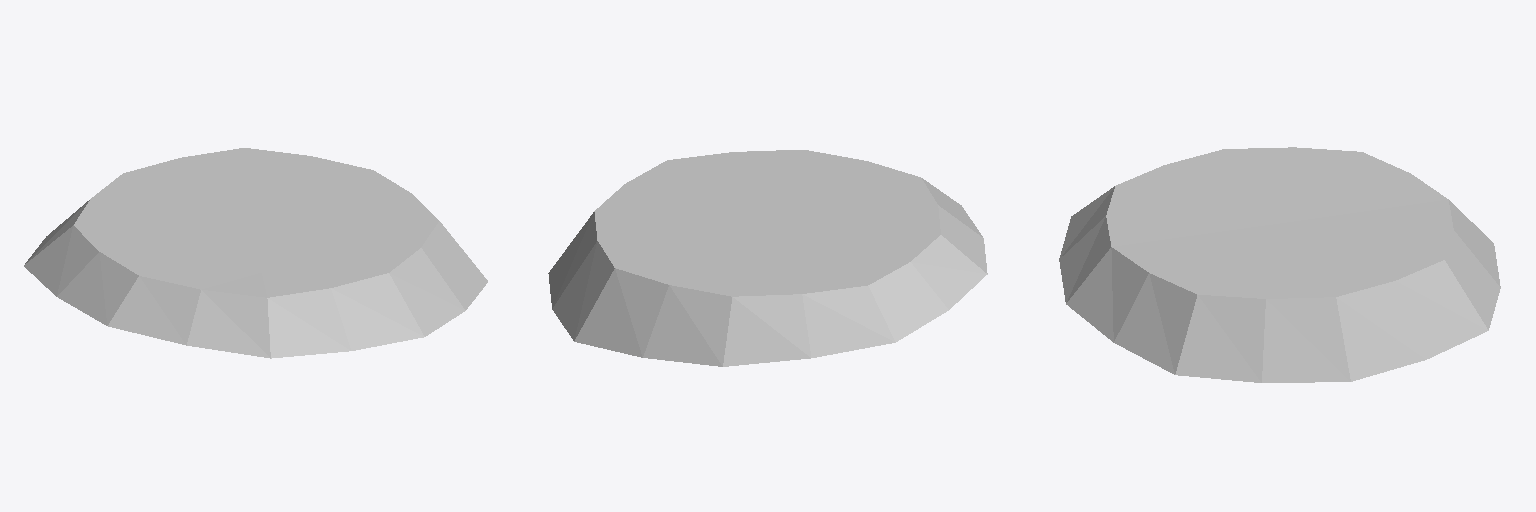
Rendered from slice_04.obj.
3 renders of one model, left to right at view 1: azimuth 30°, elevation 25°; view 2: azimuth 150°, elevation 25°; view 3: azimuth 270°, elevation 25°, orthographic.
Visible parts, largest first — view 1: Mushroom.005_Cube.013; view 2: Mushroom.005_Cube.013; view 3: Mushroom.005_Cube.013.
Boxes of the visible parts, box(x1,y1,x2,y2) form: Mushroom.005_Cube.013: box(24, 148, 487, 358); Mushroom.005_Cube.013: box(548, 150, 987, 366); Mushroom.005_Cube.013: box(1059, 147, 1500, 382).
Bounding box in the file's own units: 1.43 × 0.2603 × 1.44.